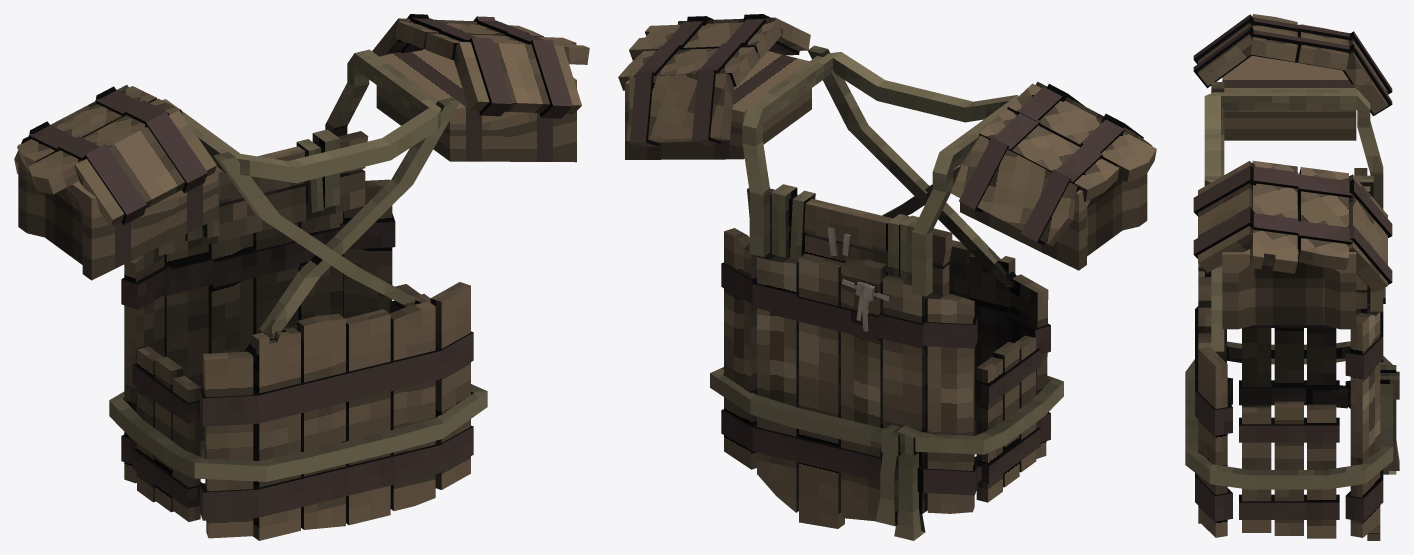
3 renders of one model, left to right at view 1: azimuth 30°, elevation 25°; view 2: azimuth 150°, elevation 25°; view 3: azimuth 270°, elevation 25°, orthographic. The views are drawn at different scales.
Parts seen in each view (by area): view 1: body, left_arm, right_arm; view 2: body, left_arm, right_arm; view 3: body, right_arm, left_arm.
Part boxes in pixels (<box>): body: <box>14,14,589,540</box>; left_arm: <box>18,144,218,280</box>; right_arm: <box>376,49,576,162</box>; body: <box>618,14,1156,540</box>; left_arm: <box>960,163,1147,270</box>; right_arm: <box>625,51,811,159</box>; body: <box>1185,14,1399,540</box>; right_arm: <box>1222,206,1356,329</box>; left_arm: <box>1222,55,1356,140</box>.
Size of the model in its own units: 1.14 by 0.9276 by 0.425.
1 material, 1 textured.
